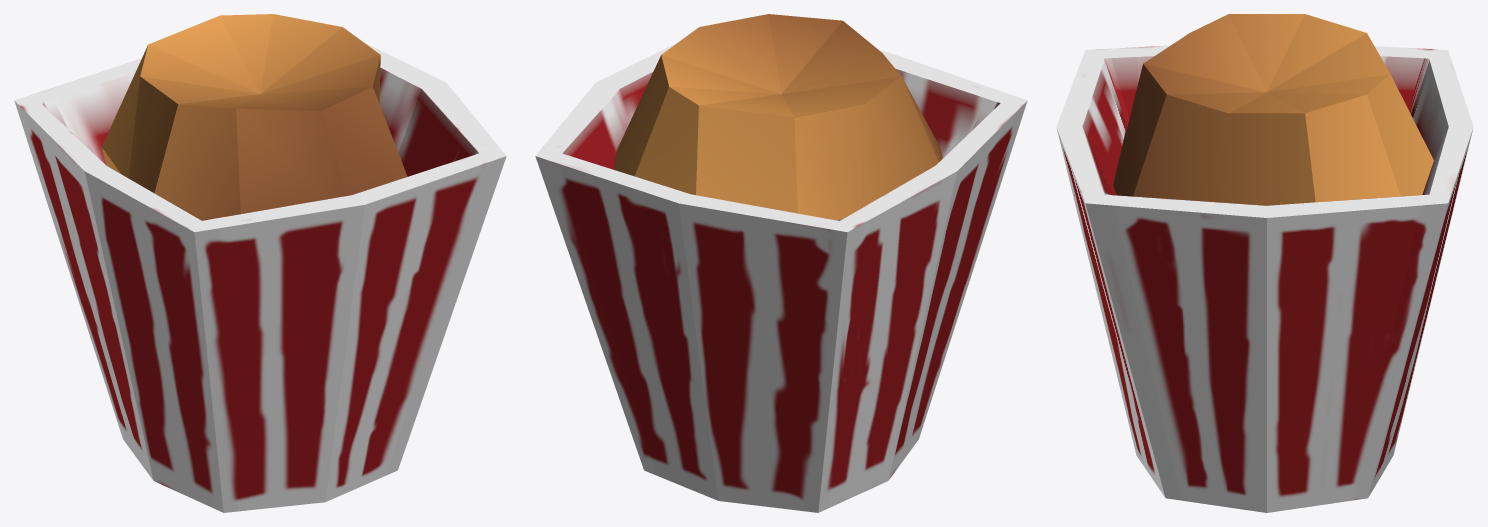
File: Popcorn.glb
3 views of the same model, side by side, from view 1: azimuth 30°, elevation 25°; view 2: azimuth 150°, elevation 25°; view 3: azimuth 270°, elevation 25° (orthographic).
Parts seen in each view (by area): view 1: Cube, Sphere; view 2: Cube, Sphere; view 3: Cube, Sphere.
Part boxes in pixels (bbox=[...]): Cube: bbox=[14, 43, 506, 512]; Sphere: bbox=[101, 14, 407, 220]; Cube: bbox=[535, 43, 1027, 512]; Sphere: bbox=[614, 14, 942, 220]; Cube: bbox=[1056, 45, 1473, 512]; Sphere: bbox=[1113, 14, 1433, 205].
Size of the model in its own units: 2.32 by 2.38 by 2.3.
2 materials, 2 textured.
